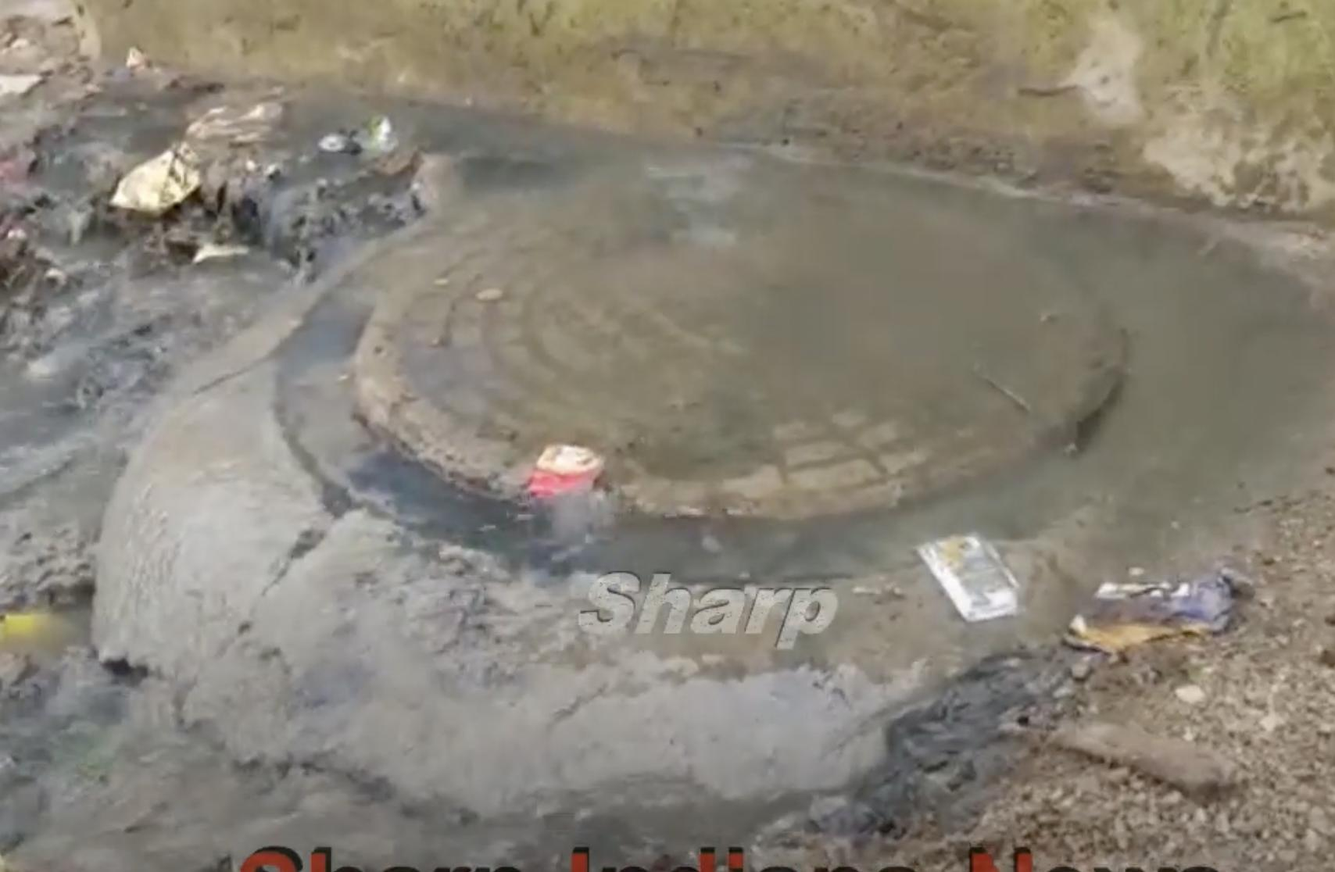drainage_overflow: (0, 65, 1263, 774)
